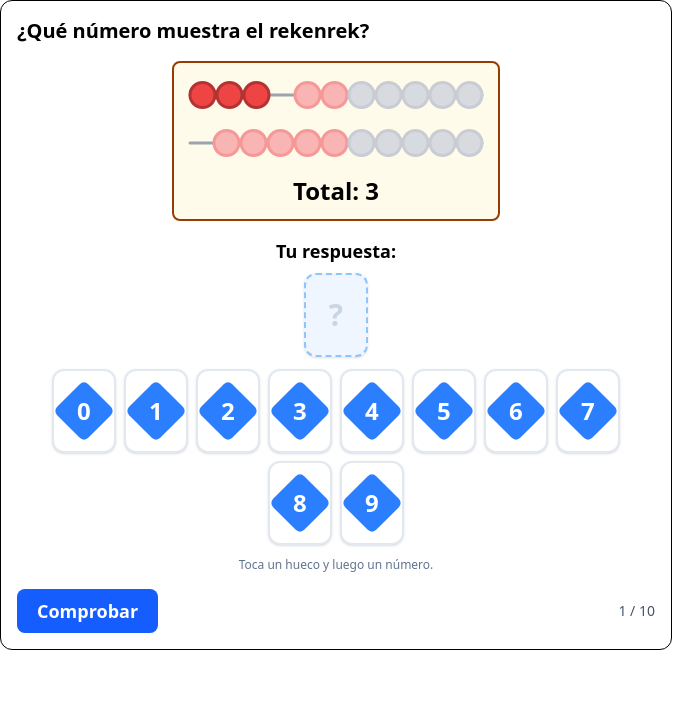
Test: ExerciseRunner › comprobar sin responder muestra feedback incorrecto
The image size is (689, 718).
Click the button "Comprobar".
click(88, 611)  # box [17, 589, 158, 633]
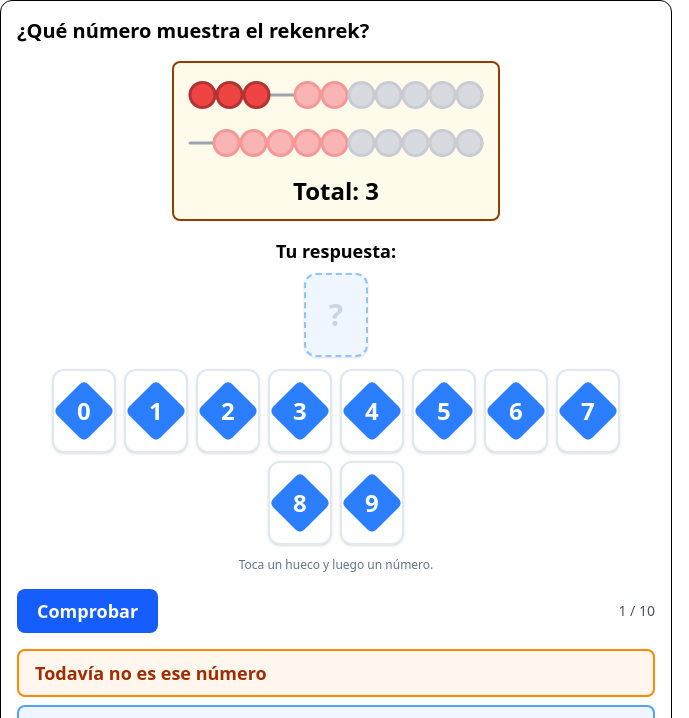
Result: the message "Todavía no es ese número" is shown at [17, 649, 655, 697]
